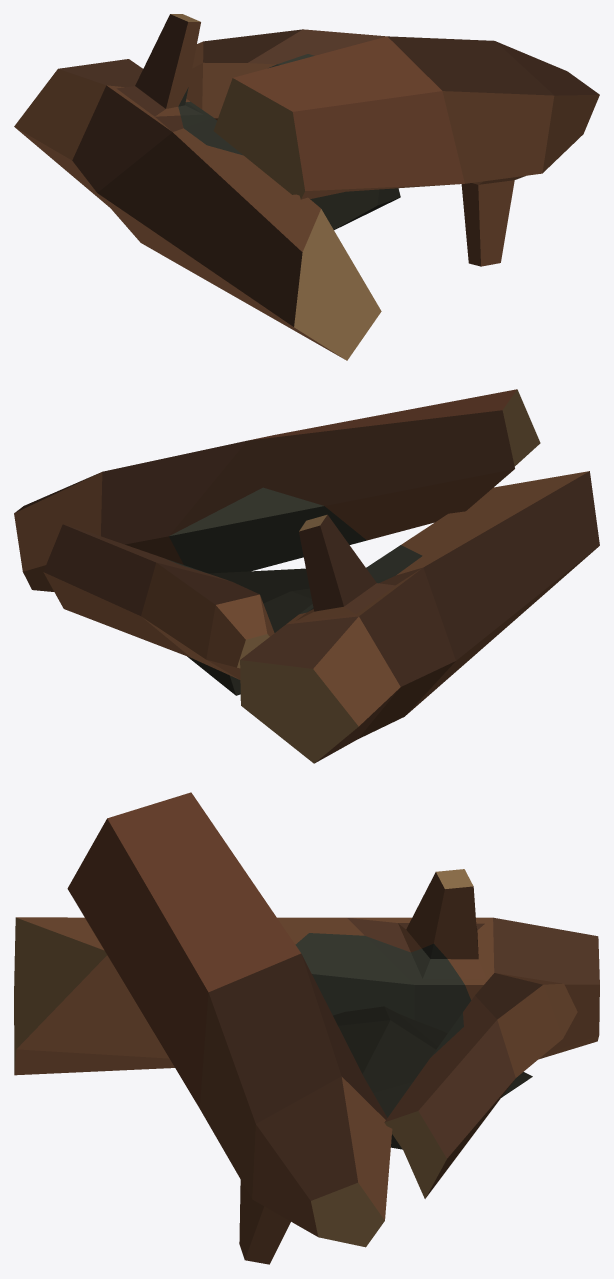
Rendered from campfire.glb.
3 renders of one model, top to bottom at view 1: azimuth 30°, elevation 25°; view 2: azimuth 150°, elevation 25°; view 3: azimuth 270°, elevation 25°, orthographic. The views are drawn at different scales.
Visible parts, largest first — view 1: Cylinder.002; view 2: Cylinder.002; view 3: Cylinder.002.
Part boxes in pixels (x1,y1,x2,y2): Cylinder.002: [14, 14, 599, 360]; Cylinder.002: [14, 389, 599, 763]; Cylinder.002: [14, 792, 599, 1264].
Size of the model in its own units: 4.19 by 2.4 by 4.07.
1 material, 1 textured.
